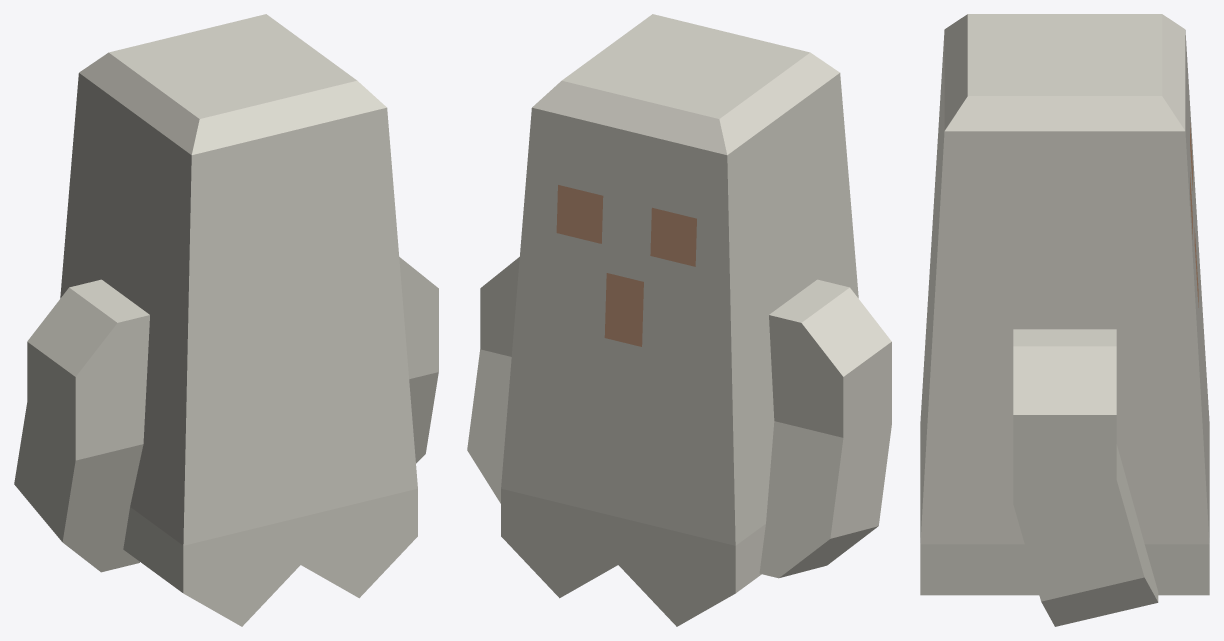
Rendered from ghost.glb.
3 renders of one model, left to right at view 1: azimuth 30°, elevation 25°; view 2: azimuth 150°, elevation 25°; view 3: azimuth 270°, elevation 25°, orthographic. The views are drawn at different scales.
Visible parts, largest first — view 1: body, armLeft, armRight; view 2: body, armLeft, armRight; view 3: body, armRight.
Part boxes in pixels (box(x1,y1,x2,y2)): body: box(60, 14, 417, 626); armLeft: box(14, 279, 149, 572); armRight: box(399, 257, 438, 463); body: box(501, 14, 858, 626); armLeft: box(759, 279, 891, 578); armRight: box(467, 257, 519, 503); body: box(920, 14, 1209, 595); armRight: box(1013, 329, 1158, 626).
Size of the model in its own units: 0.4832 by 0.6312 by 0.312.
